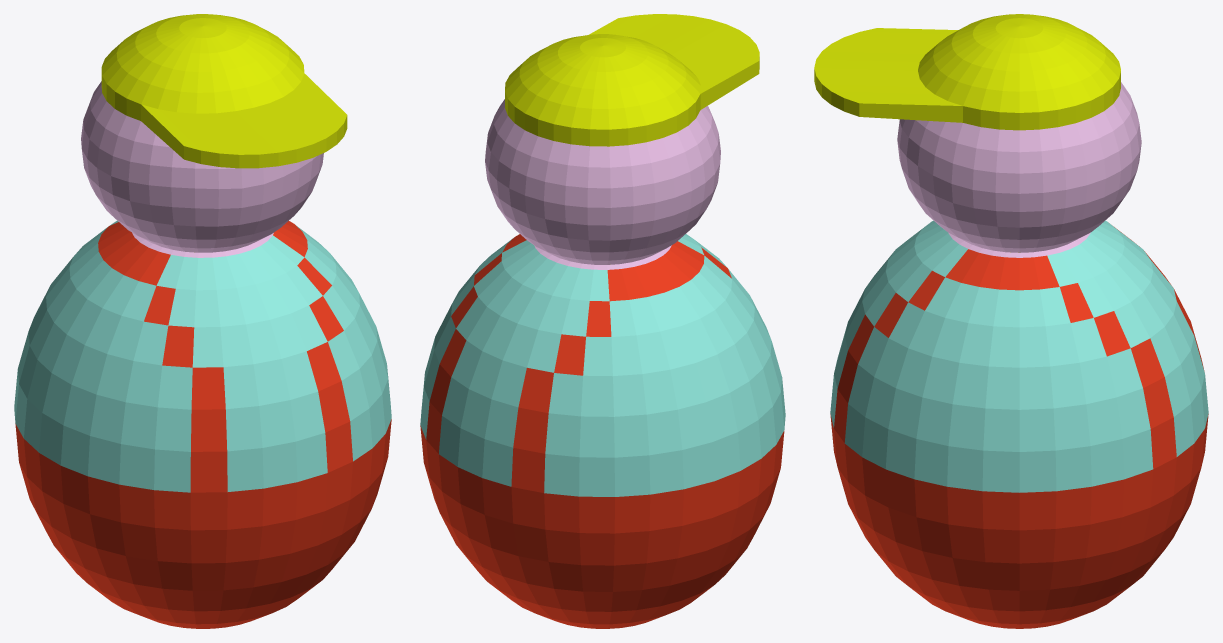
The model's file is Character.fbx.
The picture shows the model from 3 angles, left to right: view 1: azimuth 30°, elevation 25°; view 2: azimuth 150°, elevation 25°; view 3: azimuth 270°, elevation 25°; orthographic projection. The views are drawn at different scales.
Parts seen in each view (by area): view 1: Character; view 2: Character; view 3: Character.
Boxes of the visible parts, x1,y1,x2,y2 form: Character: [14, 14, 391, 628]; Character: [420, 14, 785, 628]; Character: [814, 14, 1208, 628].
Bounding box in the file's own units: 2.72 × 2.84 × 4.66.
